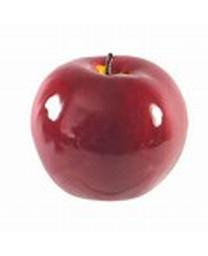apple: (29, 52, 189, 202)
